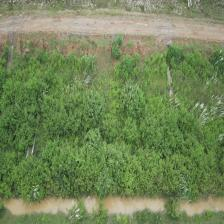vegetation: (0, 48, 224, 217)
